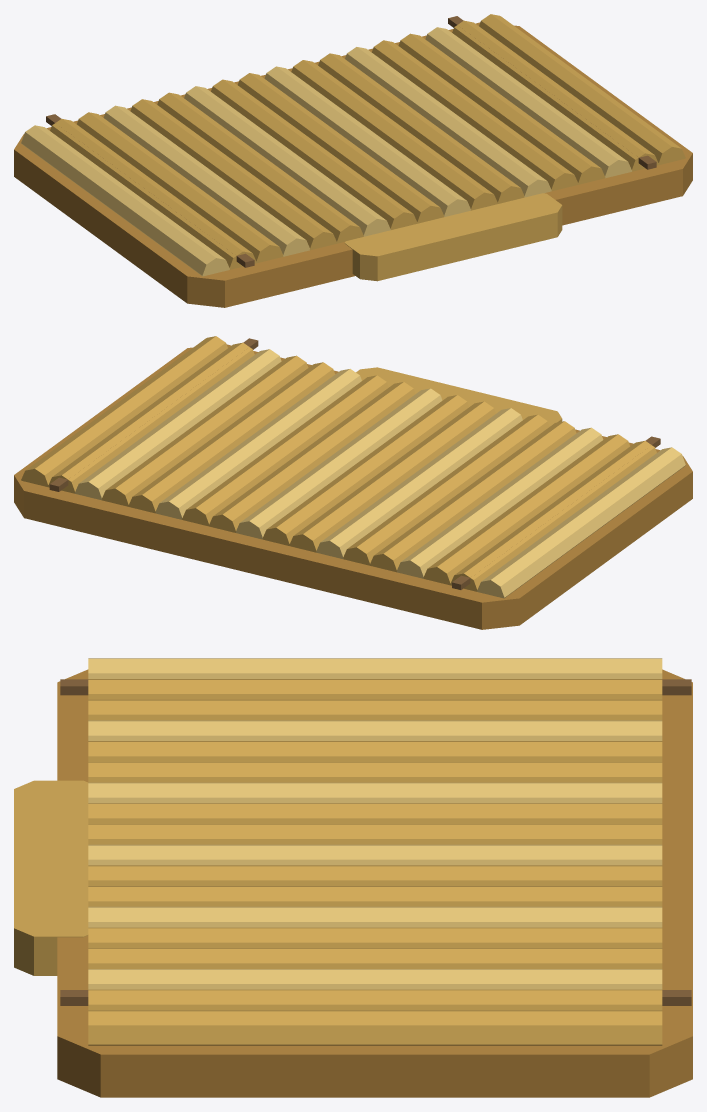
The model's file is straw_base.glb.
3 views of the same model, one above another, from view 1: azimuth 30°, elevation 25°; view 2: azimuth 150°, elevation 25°; view 3: azimuth 270°, elevation 25° (orthographic). The views are drawn at different scales.
Visible parts, largest first — view 1: straw_base; view 2: straw_base; view 3: straw_base.
Part boxes in pixels (x1,y1,x2,y2): straw_base: (14, 14, 692, 307); straw_base: (14, 336, 692, 629); straw_base: (14, 658, 692, 1097).
Size of the model in its own units: 0.66 by 0.053 by 0.485.
